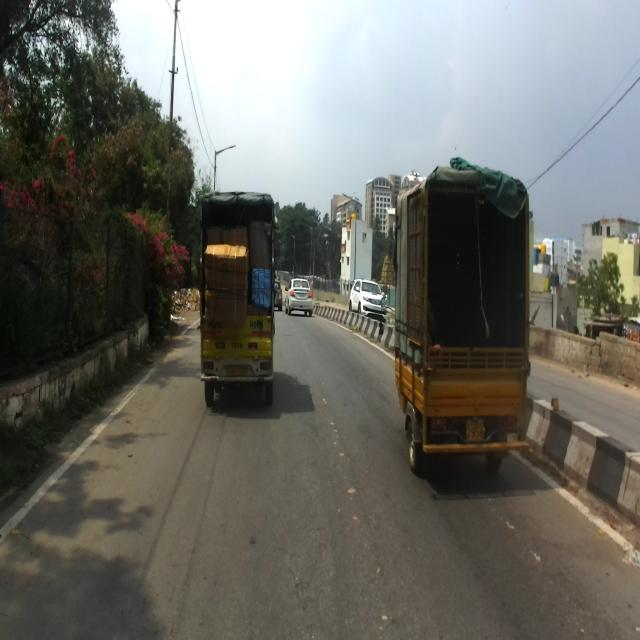Car_Maruti-Suzuki: (285, 278, 315, 316)
Car_Toyota: (348, 278, 390, 321)
autorickshaw: (394, 157, 532, 473)
truck: (198, 187, 276, 413)
